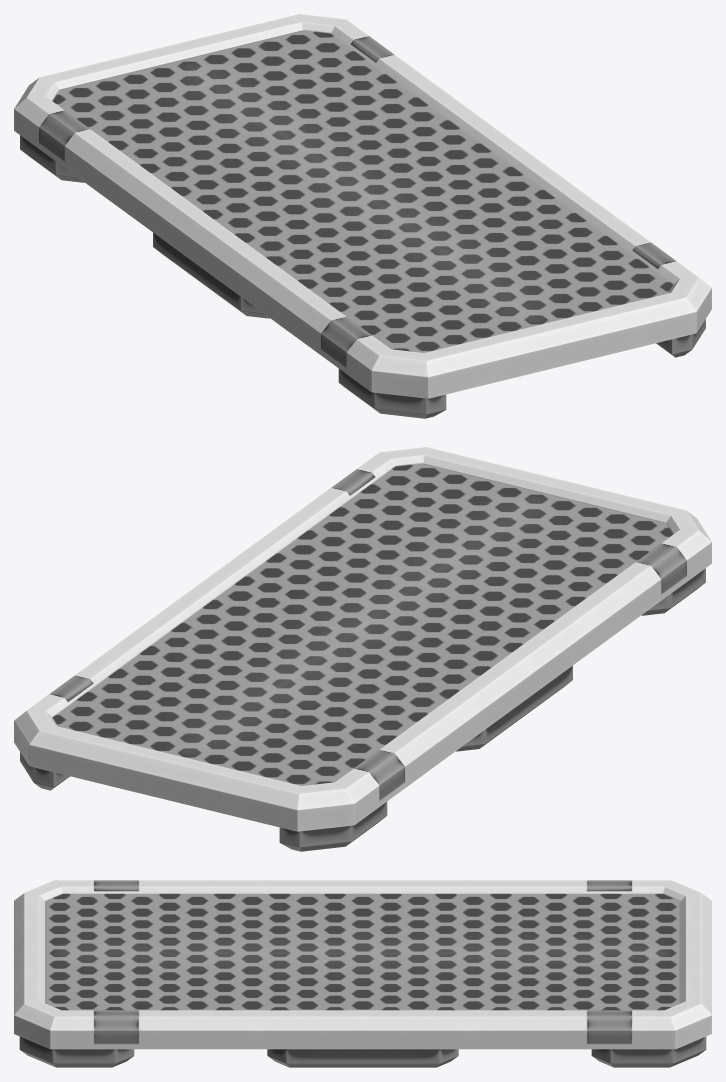
File: SM_LabBarrels01_4.FBX
The picture shows the model from 3 angles, top to bottom: view 1: azimuth 30°, elevation 25°; view 2: azimuth 150°, elevation 25°; view 3: azimuth 270°, elevation 25°; orthographic projection. The views are drawn at different scales.
Parts seen in each view (by area): view 1: SM_LabBarrels01_4; view 2: SM_LabBarrels01_4; view 3: SM_LabBarrels01_4.
Part boxes in pixels (x1,y1,x2,y2): SM_LabBarrels01_4: (14, 14, 711, 418); SM_LabBarrels01_4: (14, 447, 711, 851); SM_LabBarrels01_4: (14, 880, 711, 1067).
Size of what is drawn, in the model's own units: 66.47 by 135 by 11.02.
